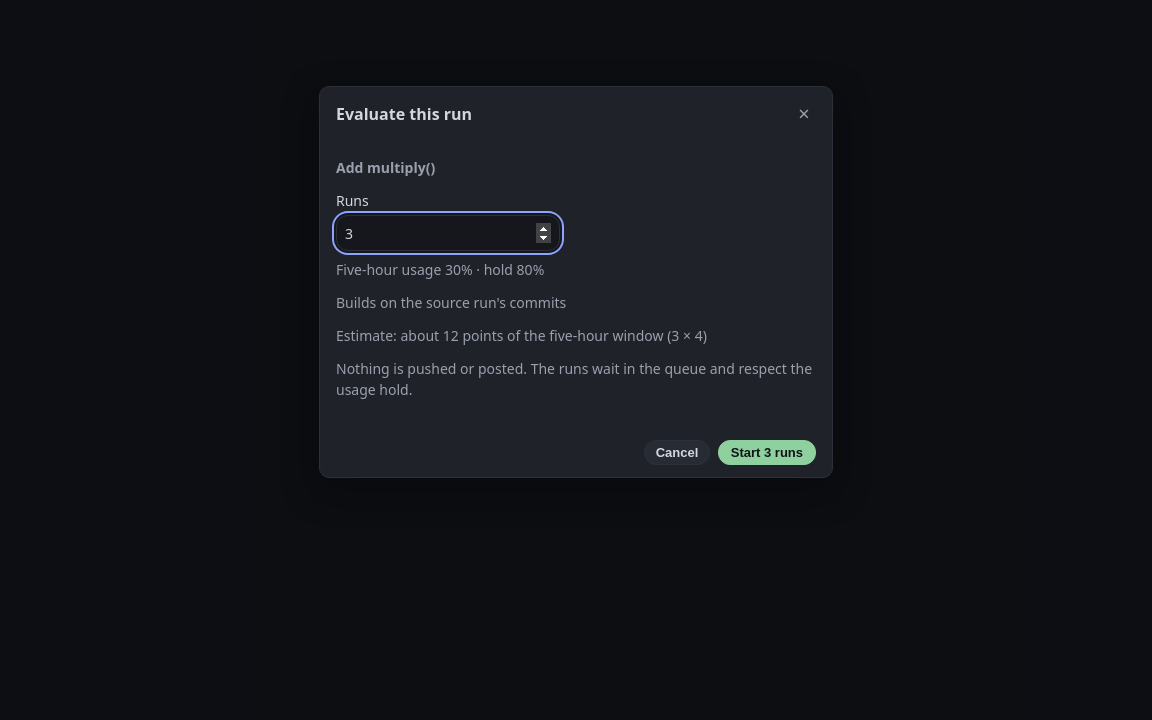
EvalDialog › shows N, the estimate before Start, the base line and the usage line; the estimate follows N
The image size is (1152, 720).
Check: the text "Add multiply()" is shown, box [336, 158, 435, 177]
Check: the text with test id "eval-usage" reads "Five-hour usage 30% · hold 80%", box [336, 260, 544, 279]
Replace the text in the number field named "Number of runs" with "5" at (448, 233), box [336, 215, 560, 251]
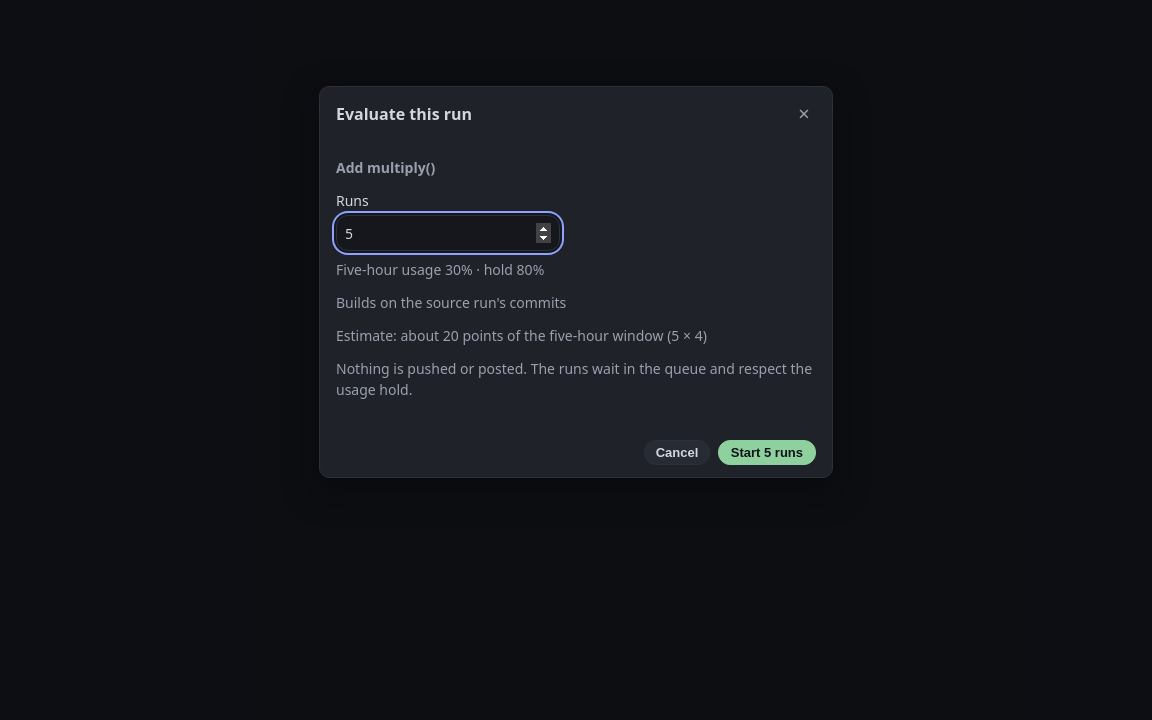
Check: the button "Start 5 runs" is enabled, box [718, 440, 816, 465]
Check: the text with test id "eval-estimate" shows "about 20 points", box [336, 326, 707, 345]
Check: the button "Start 5 runs" is shown, box [718, 440, 816, 465]
